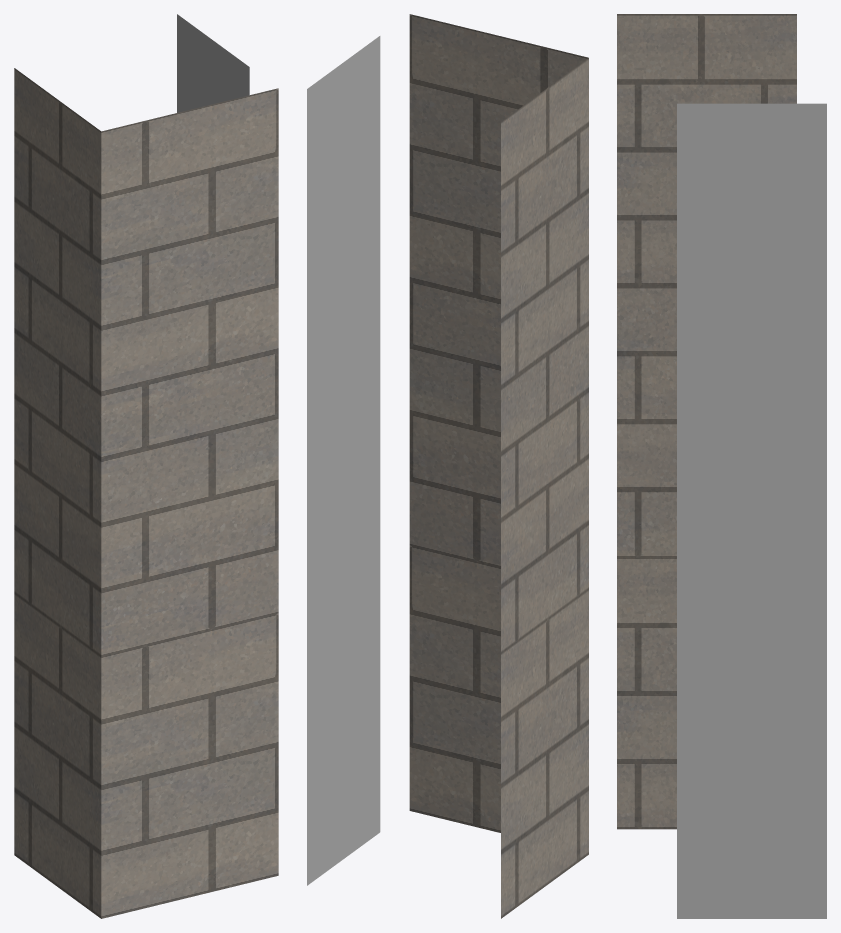
Rendered from Wall_WhiteBrick_90Angle_R.gltf.
3 renders of one model, left to right at view 1: azimuth 30°, elevation 25°; view 2: azimuth 150°, elevation 25°; view 3: azimuth 270°, elevation 25°, orthographic. The views are drawn at different scales.
Parts seen in each view (by area): view 1: Wall_WhiteBrick_90Angle_R; view 2: Wall_WhiteBrick_90Angle_R; view 3: Wall_WhiteBrick_90Angle_R.
Part boxes in pixels (left/top/right/bottom): Wall_WhiteBrick_90Angle_R: left=14, top=14, right=278, bottom=918; Wall_WhiteBrick_90Angle_R: left=307, top=14, right=588, bottom=918; Wall_WhiteBrick_90Angle_R: left=617, top=14, right=826, bottom=918.
Size of what is drawn, in the model's own units: 0.7062 by 3 by 0.7.
